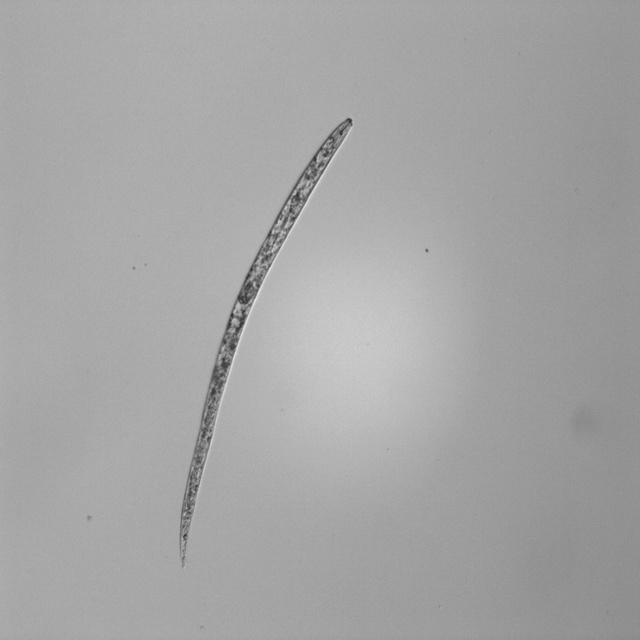Radopholus: (177, 116, 359, 579)
